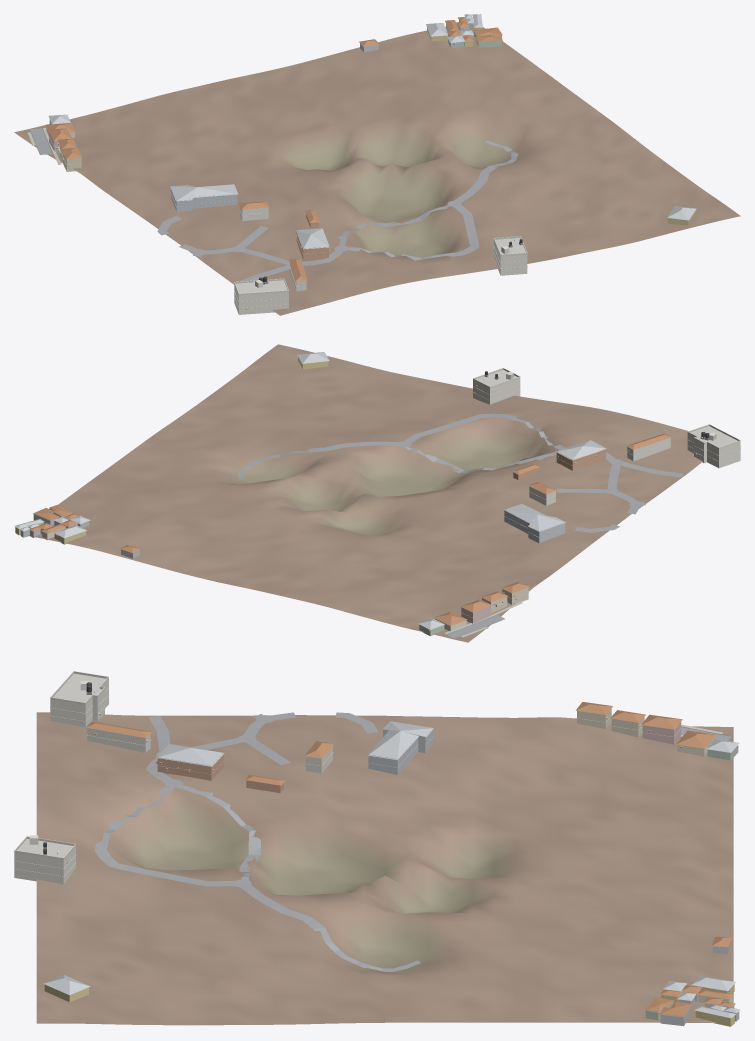
3 views of the same model, one above another, from view 1: azimuth 30°, elevation 25°; view 2: azimuth 150°, elevation 25°; view 3: azimuth 270°, elevation 25° (orthographic). The views are drawn at different scales.
Parts seen in each view (by area): view 1: Terrain-col, Buildings-col, Roads-col, Details; view 2: Terrain-col, Buildings-col, Roads-col, Details; view 3: Terrain-col, Buildings-col, Roads-col, Details.
Part boxes in pixels (<box>): Terrain-col: <box>14,23,740,315</box>; Buildings-col: <box>45,14,696,314</box>; Roads-col: <box>29,128,518,281</box>; Details: <box>48,28,527,309</box>; Terrain-col: <box>20,344,702,642</box>; Buildings-col: <box>14,352,740,636</box>; Roads-col: <box>238,413,683,638</box>; Details: <box>55,368,740,630</box>; Terrain-col: <box>36,712,733,1025</box>; Buildings-col: <box>14,673,740,1026</box>; Roads-col: <box>94,712,731,971</box>; Details: <box>14,671,738,1013</box>.
Bounding box in the file's own units: 274 × 24.64 × 267.
